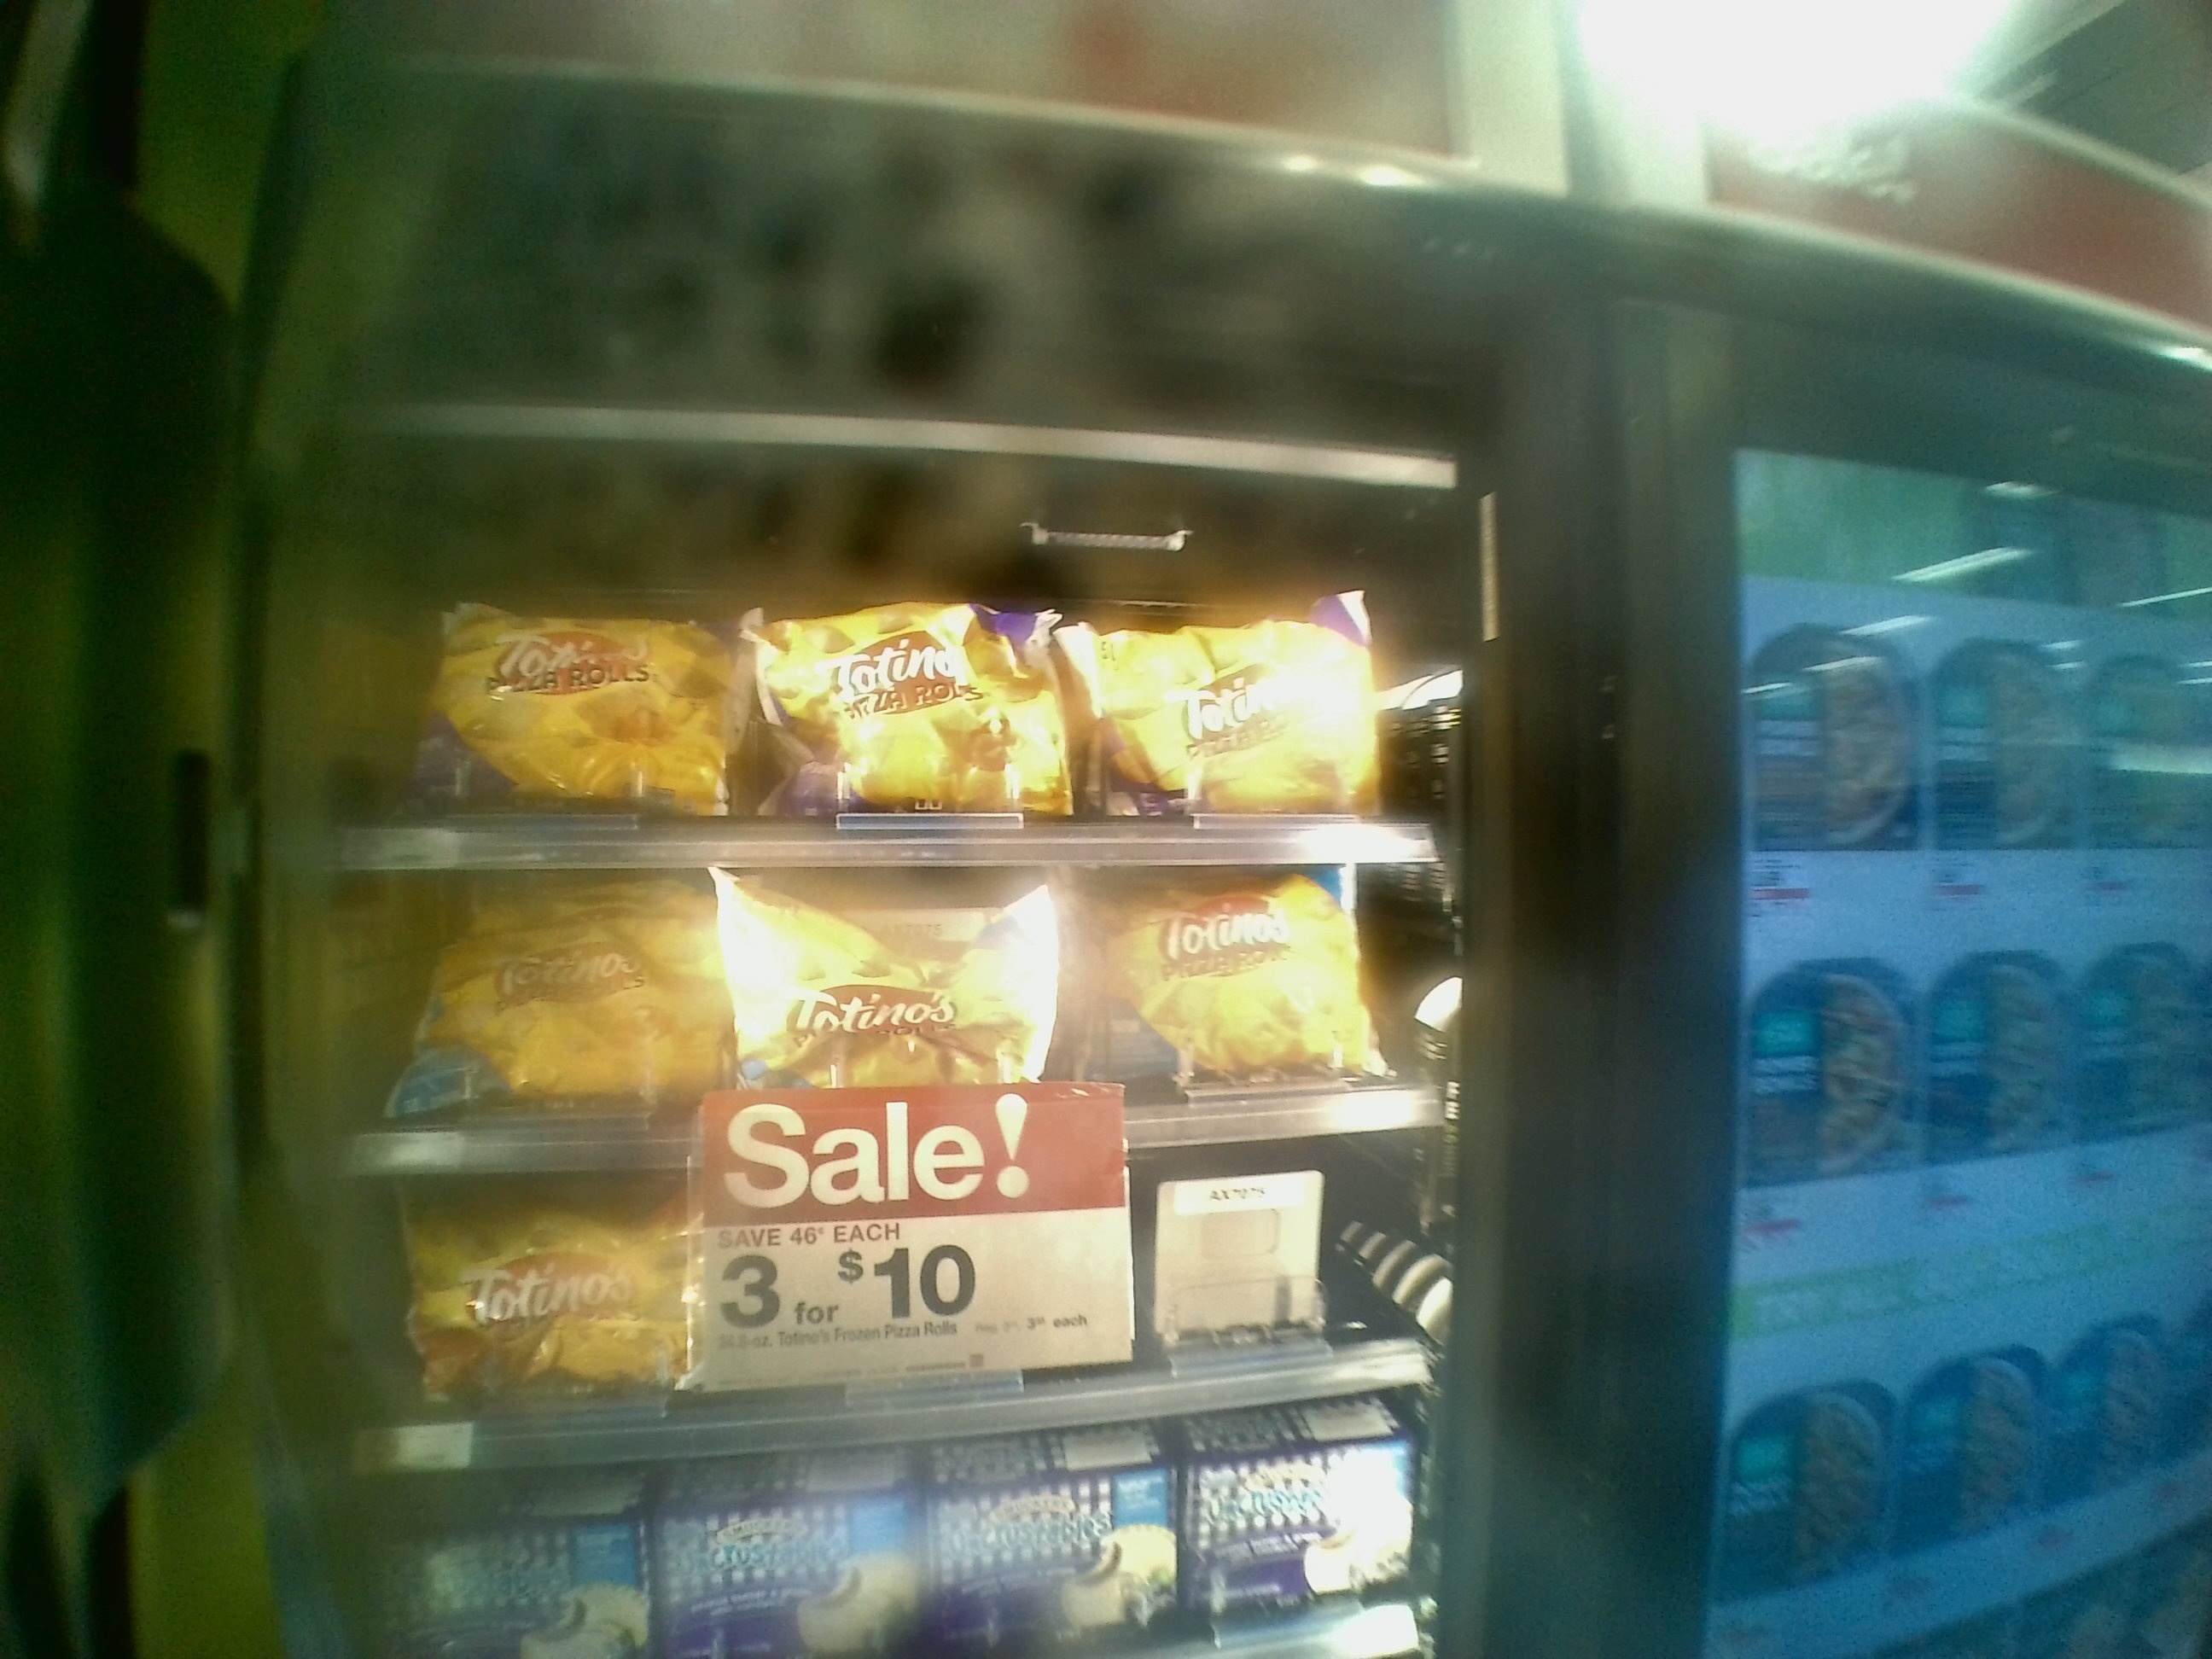shelf: (314, 460, 1446, 870), (340, 856, 1442, 1159), (317, 1154, 1439, 1373)
